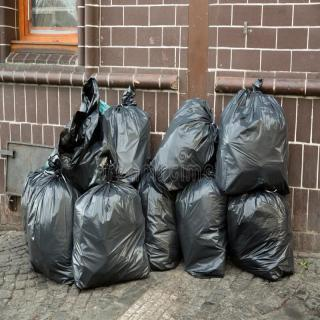Garbage: (215, 72, 297, 200), (72, 168, 150, 285), (20, 158, 82, 286), (50, 75, 119, 185), (225, 184, 298, 283), (149, 93, 221, 192), (175, 171, 231, 279), (99, 83, 156, 181), (136, 171, 185, 271)
